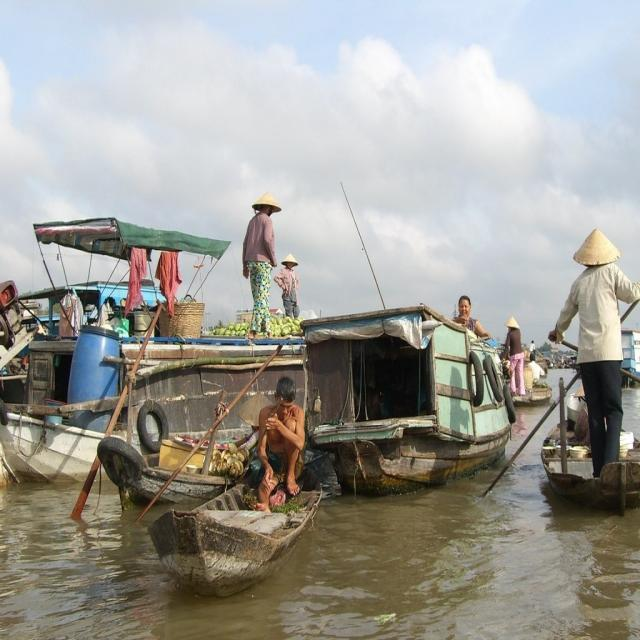boat: (298, 316, 514, 488), (143, 474, 319, 600), (538, 396, 636, 510)
